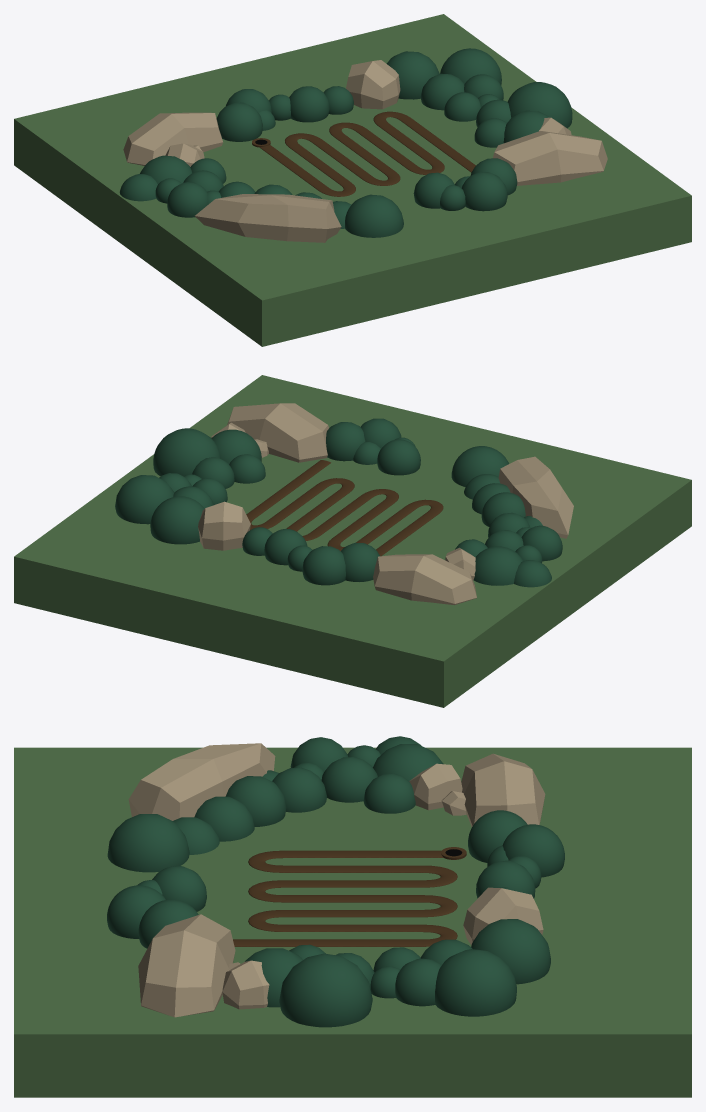
Rendered from secondLevel.glb.
3 views of the same model, one above another, from view 1: azimuth 30°, elevation 25°; view 2: azimuth 150°, elevation 25°; view 3: azimuth 270°, elevation 25° (orthographic). The views are drawn at different scales.
Parts seen in each view (by area): view 1: Cube, Road2, Cube.008, Cube.002, Cube.005, Cube.001, Sphere.029, Sphere.035, Sphere.016, Sphere.004, Sphere.019, Sphere.037 (+17 smaller); view 2: Cube, Road2, Cube.005, Cube.002, Cube.008, Sphere.035, Sphere.016, Cube.001, Sphere.037, Sphere.028, Sphere.029, Sphere.006 (+17 smaller); view 3: Cube, Road2, Cube.002, Cube.008, Sphere.035, Sphere.037, Cube.005, Sphere.029, Sphere.016, Cube.001, Sphere.006, Sphere.023 (+19 smaller).
Boxes of the visible parts, x1,y1,x2,y2 form: Cube: [14, 14, 691, 346]; Road2: [259, 111, 475, 196]; Cube.008: [195, 194, 341, 242]; Cube.002: [493, 131, 607, 185]; Cube.005: [123, 112, 222, 165]; Cube.001: [346, 60, 400, 109]; Sphere.029: [345, 194, 403, 237]; Sphere.035: [507, 82, 572, 128]; Sphere.016: [387, 51, 439, 99]; Sphere.004: [216, 102, 262, 141]; Sphere.019: [461, 172, 507, 211]; Sphere.037: [440, 48, 501, 85]; Cube: [14, 375, 691, 707]; Road2: [246, 460, 443, 556]; Cube.005: [373, 554, 476, 605]; Cube.002: [227, 403, 328, 462]; Cube.008: [498, 456, 573, 538]; Sphere.035: [153, 428, 219, 476]; Sphere.016: [150, 496, 204, 544]; Cube.001: [198, 501, 250, 550]; Sphere.037: [115, 475, 174, 524]; Sphere.028: [473, 546, 523, 585]; Sphere.029: [451, 446, 508, 486]; Sphere.006: [302, 546, 345, 585]; Cube: [14, 747, 691, 1097]; Road2: [233, 850, 457, 946]; Cube.002: [138, 914, 235, 1017]; Cube.008: [128, 743, 275, 820]; Sphere.035: [279, 953, 372, 1027]; Sphere.037: [435, 949, 516, 1016]; Cube.005: [461, 753, 545, 826]; Sphere.029: [107, 814, 189, 872]; Sphere.016: [471, 919, 550, 984]; Cube.001: [463, 887, 543, 945]; Sphere.006: [502, 824, 564, 877]; Sphere.023: [225, 776, 286, 826].
Size of the model in its own units: 19.36 by 3.65 by 19.36.
